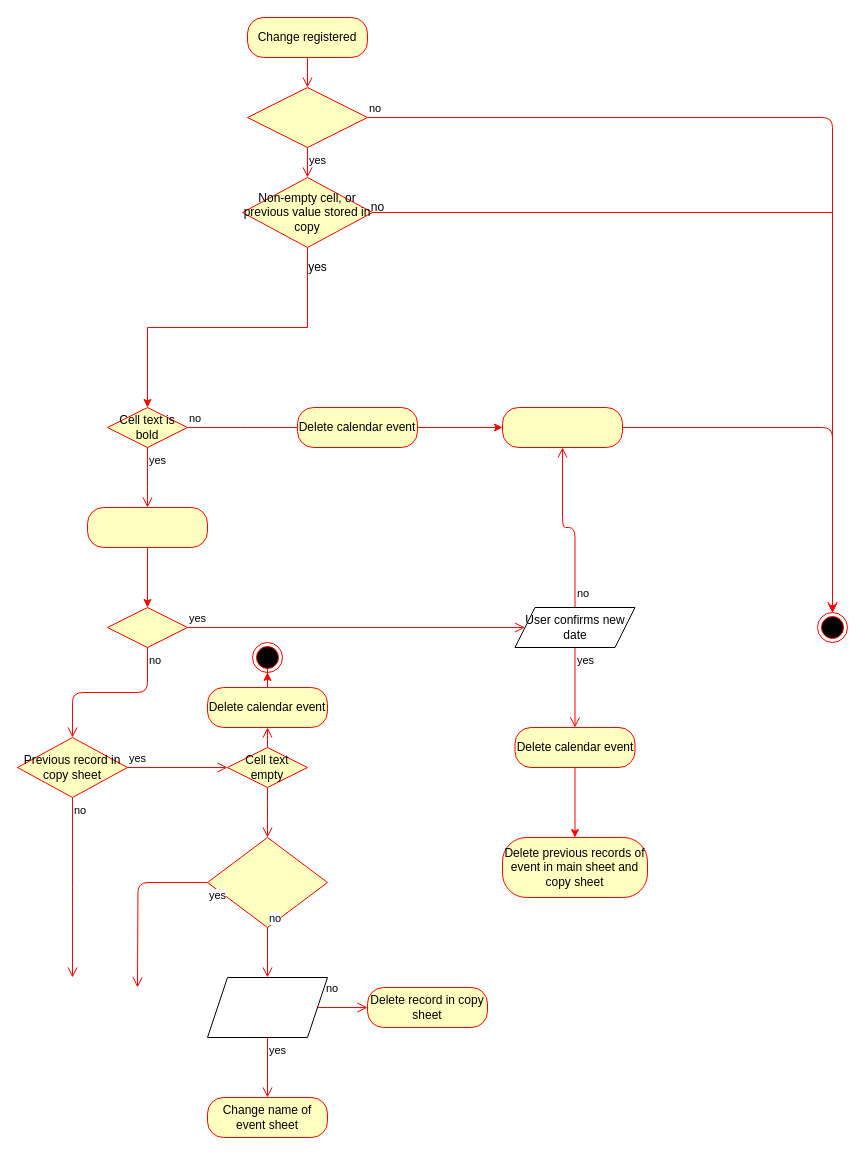
The diagram is 865 pixels wide and 1155 high, and some of its shapes have lost their labels. The centre of each missing label's shape, as x and y in pixels:
"Active cell is event column in main sheet" belongs at point 307,117.
"Date has changed" belongs at point 147,627.
"Get, or create, event sheet" belongs at point 147,527.
"Identical events" belongs at point 267,1007.
"Name in main sheet and copy sheet identical" belongs at point 267,882.
"Remove formatting" belongs at point 562,427.
